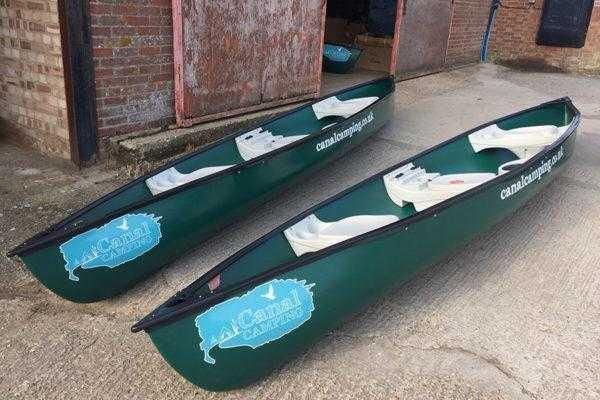kayak: (130, 95, 583, 390), (7, 73, 396, 303)
